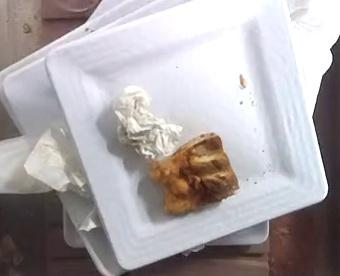pizza_crust: (151, 133, 239, 214)
